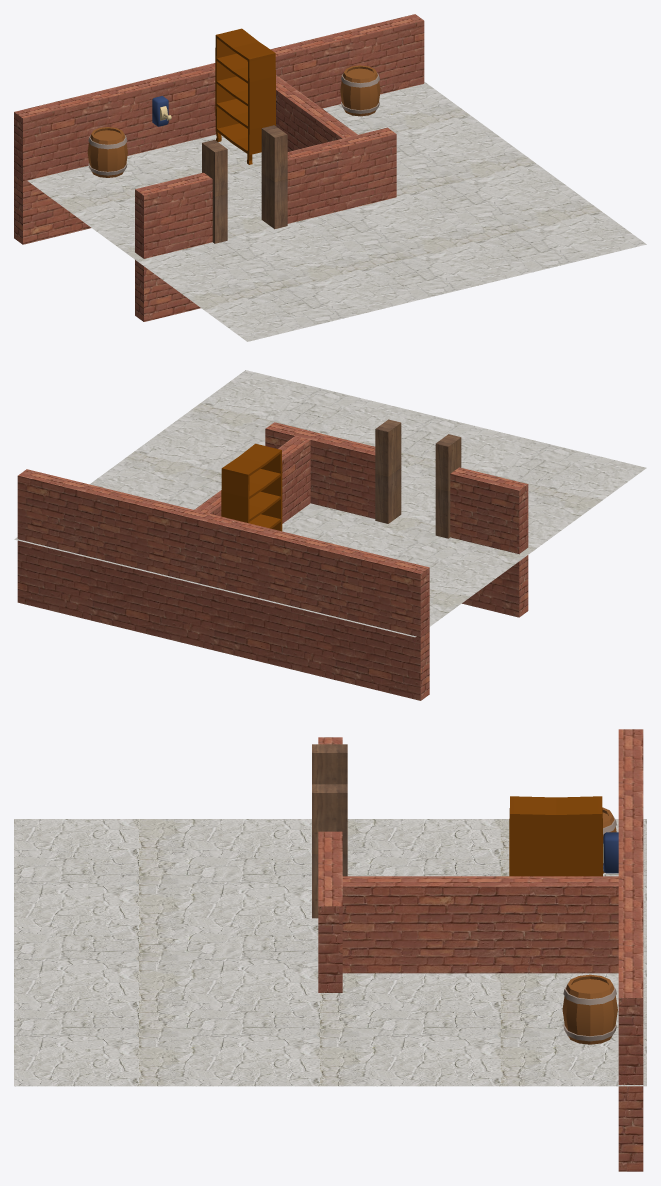
The model's file is brickwall1.glb.
3 views of the same model, one above another, from view 1: azimuth 30°, elevation 25°; view 2: azimuth 150°, elevation 25°; view 3: azimuth 270°, elevation 25° (orthographic). The views are drawn at different scales.
Parts seen in each view (by area): view 1: Plane, Cube.005, Cube, Cube.004, shelf_style, Cube.006, Cube.002, Cube.003, barrel, barrel.001; view 2: Cube.005, Plane, Cube.004, Cube, shelf_style, Cube.002, Cube.006, Cube.003; view 3: Plane, Cube.006, Cube.005, shelf_style, Cube, barrel, Cube.002, Cube.003, switch_box.
Part boxes in pixels (<box>): Plane: <box>27,82,646,341</box>; Cube.005: <box>14,14,424,244</box>; Cube: <box>287,127,396,223</box>; Cube.004: <box>135,172,212,321</box>; shelf_style: <box>215,28,275,164</box>; Cube.006: <box>276,75,357,151</box>; Cube.002: <box>261,125,287,229</box>; Cube.003: <box>202,139,227,243</box>; barrel: <box>340,65,380,116</box>; barrel.001: <box>87,127,127,177</box>; Cube.005: <box>17,469,429,700</box>; Plane: <box>14,370,646,637</box>; Cube.004: <box>450,467,528,617</box>; Cube: <box>265,422,375,518</box>; shelf_style: <box>221,443,282,531</box>; Cube.002: <box>375,419,401,523</box>; Cube.006: <box>194,436,310,523</box>; Cube.003: <box>435,434,461,538</box>; Plane: <box>14,819,646,1086</box>; Cube.006: <box>342,876,618,973</box>; Cube.005: <box>618,729,643,1171</box>; shelf_style: <box>509,796,602,876</box>; Cube: <box>318,831,342,992</box>; barrel: <box>562,974,617,1044</box>; Cube.002: <box>312,784,347,918</box>; Cube.003: <box>312,744,347,784</box>; switch_box: <box>603,832,618,873</box>.
Size of the model in its own units: 6.69 by 2.67 by 6.62.
14 materials, 7 textured.
